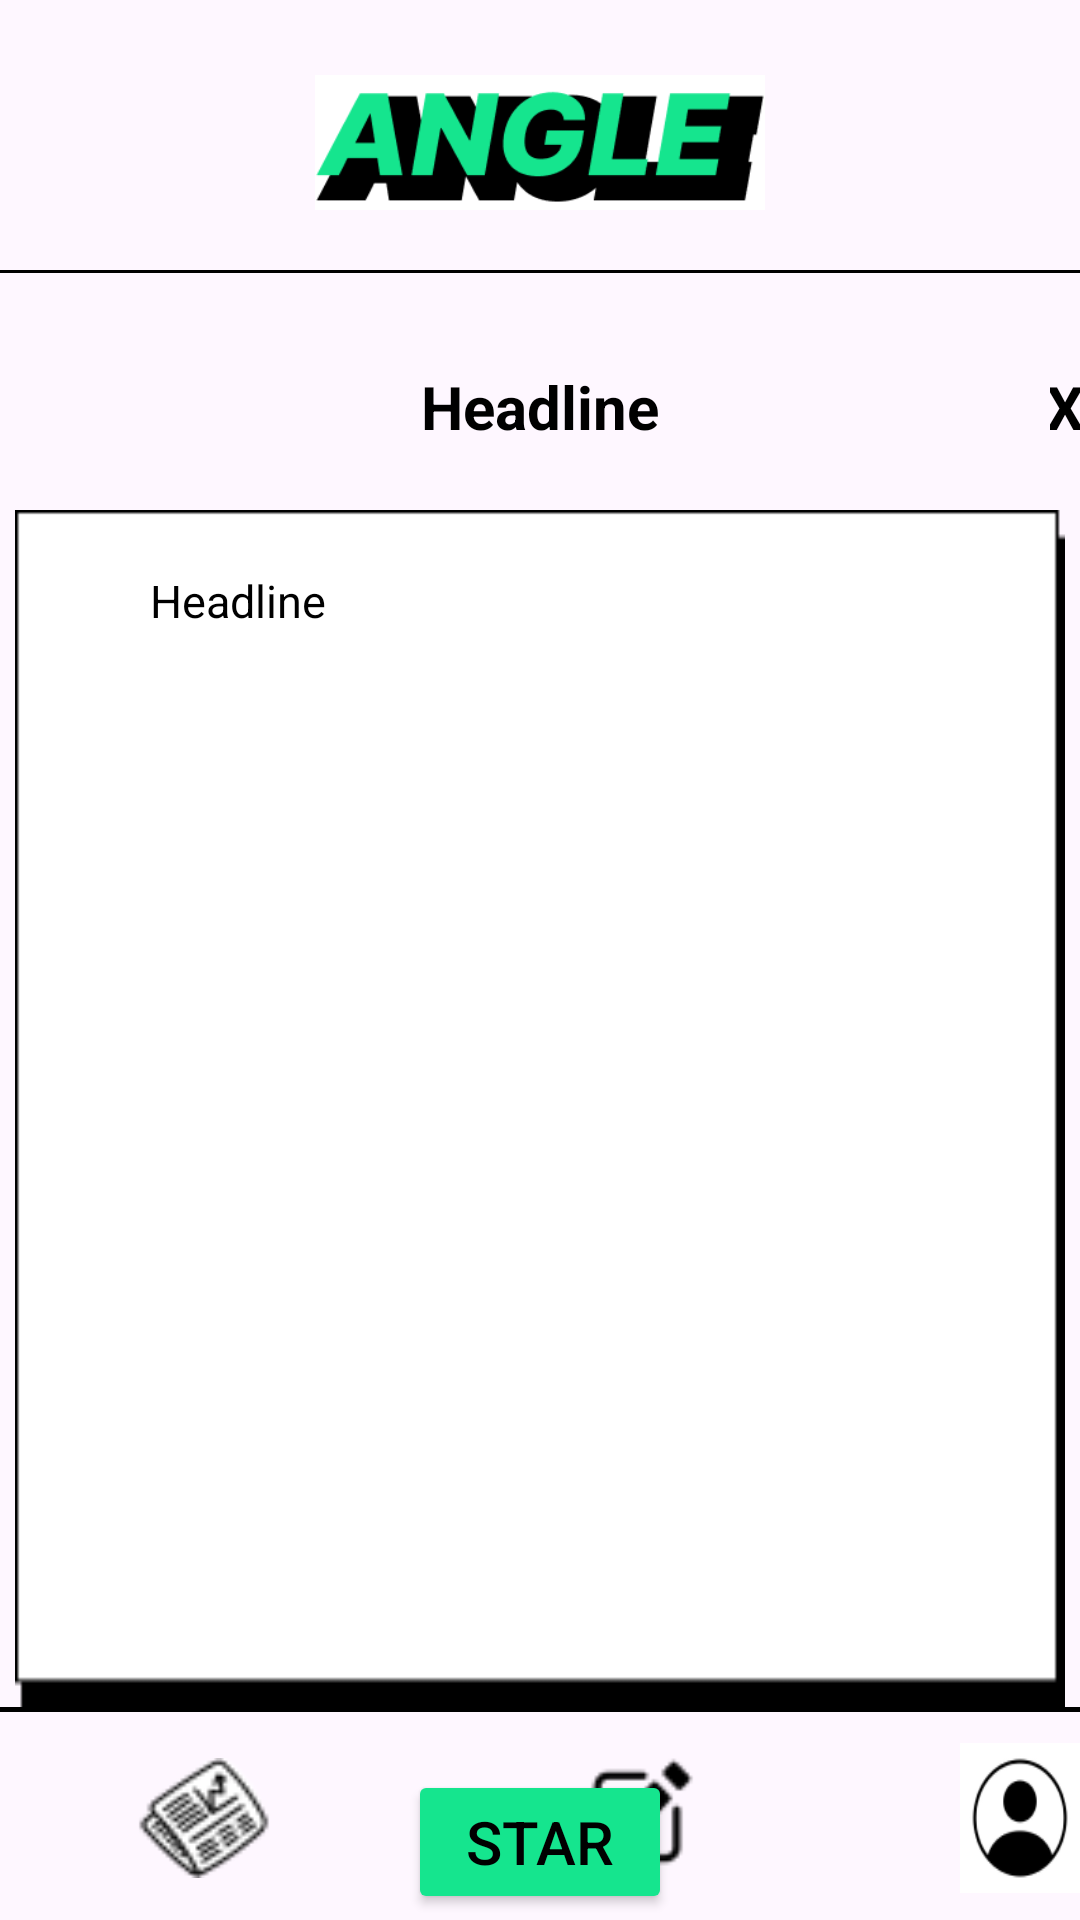

Screen size 1080*1920. Icon name, then its box in pixels as [x1, y1, x2, y2]:
news: [139, 1758, 269, 1878]
profile: [972, 1758, 1068, 1878]
